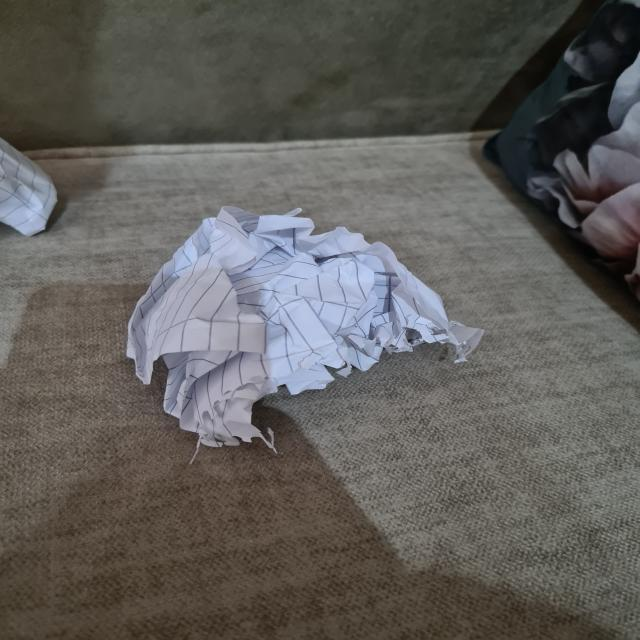Paper: (130, 206, 486, 448)
